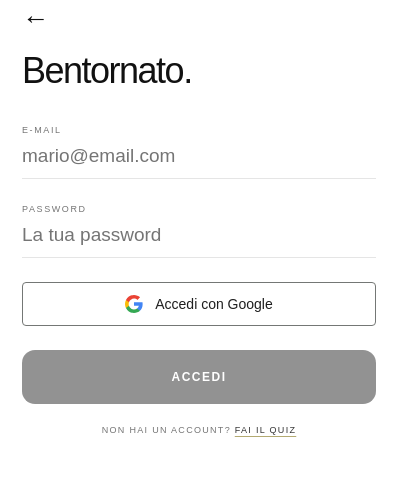
it: submits entered credentials and displays a failed login without leaving the form
Type "athlete@example.com" into the field labelled "E-mail" at [199, 160], box [22, 142, 376, 179]
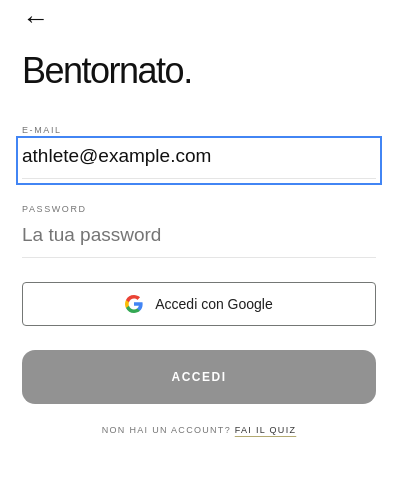
Type "test-password" into the password field labelled "Password" at [199, 239], box [22, 221, 376, 258]
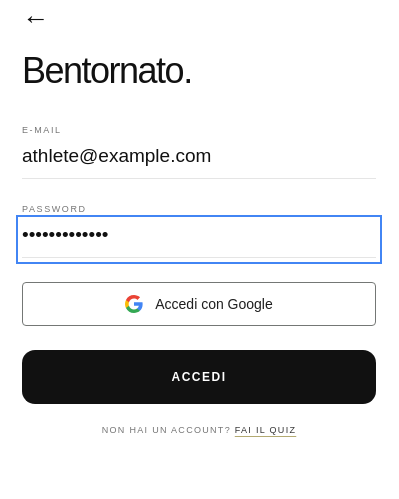
Click the button "Accedi" at [199, 377], box [22, 350, 376, 404]
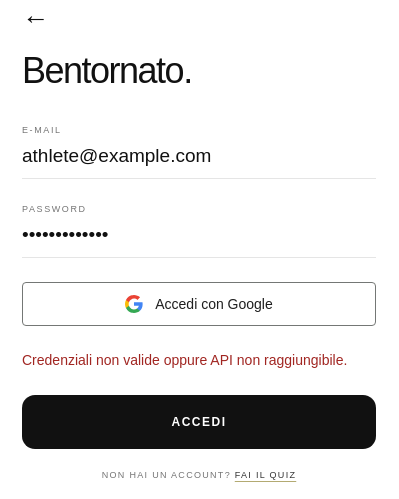
Result: the button "Accedi" is enabled at [22, 395, 376, 449]
Result: the message shows "Credenziali non valide" at [22, 352, 347, 368]
